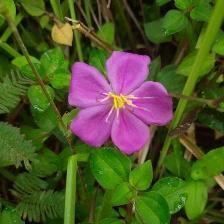malabar melastome: (67, 52, 177, 157)
